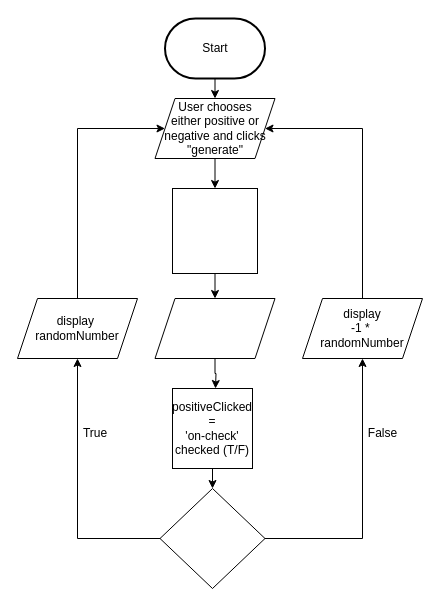
Some shapes in this 440 by 606 pixel diagram are drawn without their labels. Here are the shapes that lost their labels. From the top down, the centre of each, then its label:
At pixel 215 231: "randomNumber = Math.floor( Math.random() * 6 ) + 1".
At pixel 214 328: "display randomNumber in console".
At pixel 212 538: "positiveClicked == true?".
